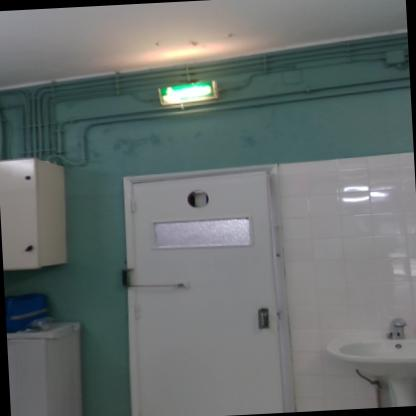closed: (102, 157, 300, 416)
